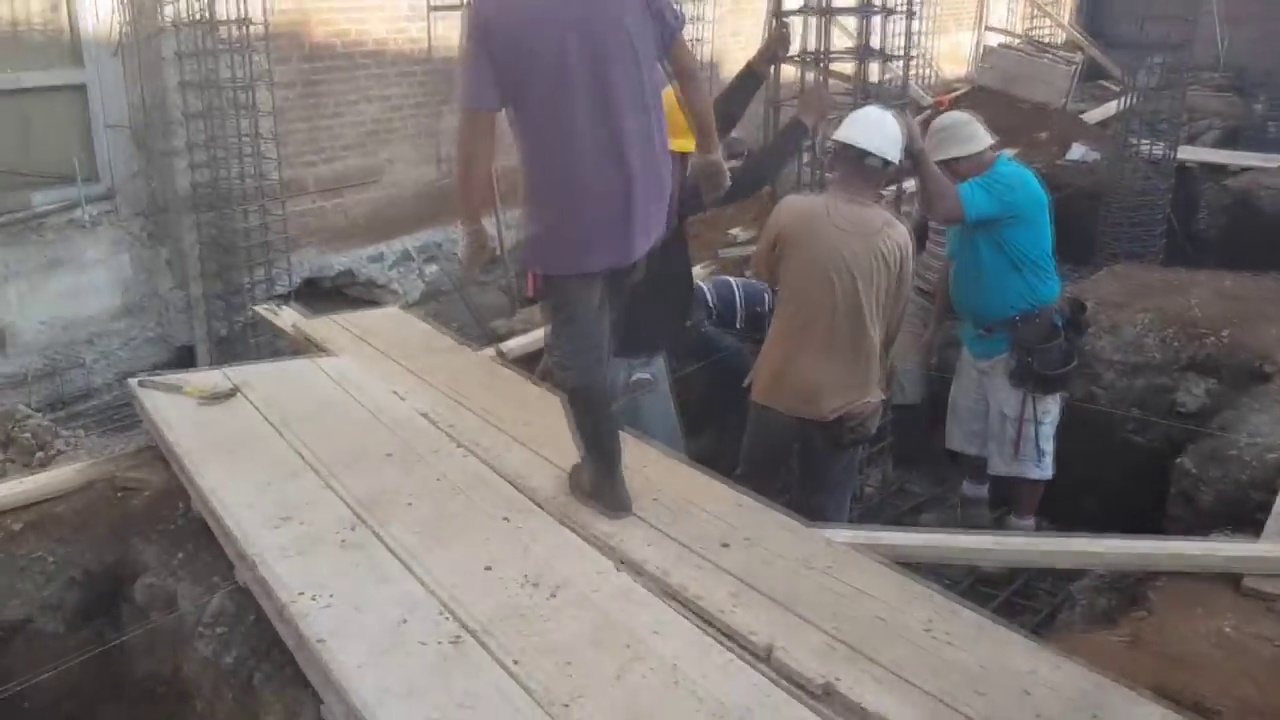helmet: (825, 105, 911, 167), (658, 83, 702, 157)
helmet-off: (928, 109, 1003, 184)
helmet-on: (821, 101, 919, 208)
person: (463, 0, 751, 559), (745, 101, 922, 555), (914, 105, 1082, 565)
